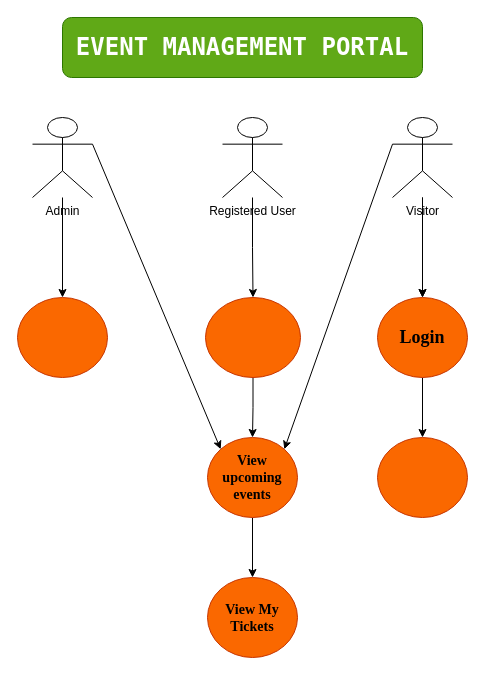
The diagram is 485 pixels wide and 675 high, and some of its shapes have lost their labels. The centre of each missing label's shape, as x and y in pixels:
Manage Events: (62,337)
Register Account: (422,477)
Ticket Booking and payment: (252,337)
